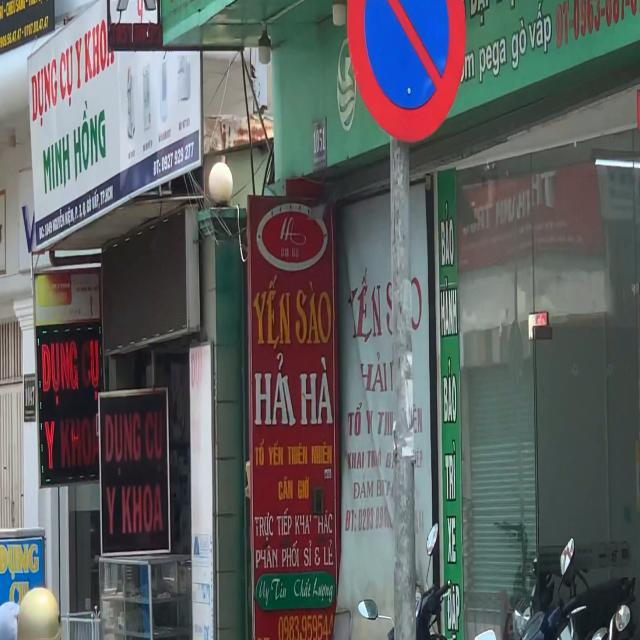Cam do: (342, 0, 467, 140)
